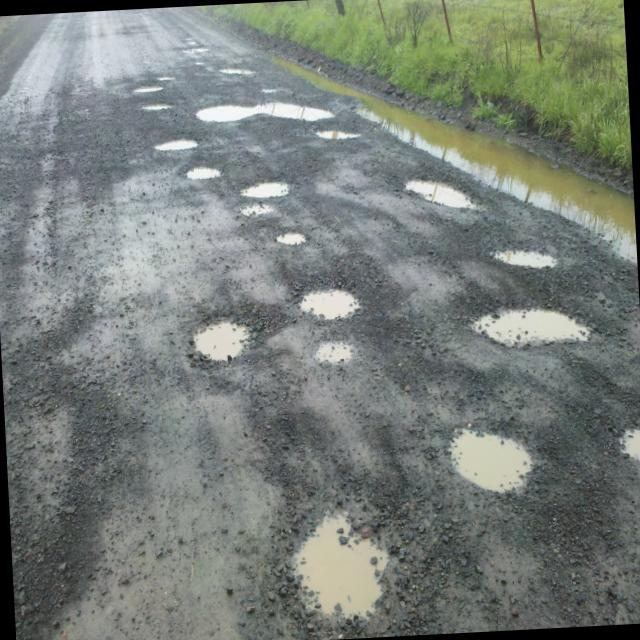Potholes: (275, 504, 410, 630), (464, 297, 601, 368), (442, 412, 536, 507), (174, 309, 267, 375), (488, 234, 586, 292), (192, 96, 342, 130), (294, 276, 369, 328), (398, 168, 480, 212), (312, 340, 362, 384), (232, 174, 299, 205), (616, 411, 640, 472), (182, 157, 224, 188), (150, 134, 203, 158), (314, 122, 362, 148), (129, 75, 182, 98), (237, 196, 278, 221), (218, 62, 258, 86), (139, 97, 179, 115), (274, 226, 306, 248)
